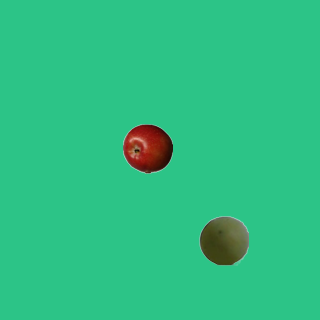Apple Braeburn: (122, 123, 172, 173)
Grape White 4: (198, 215, 248, 265)
